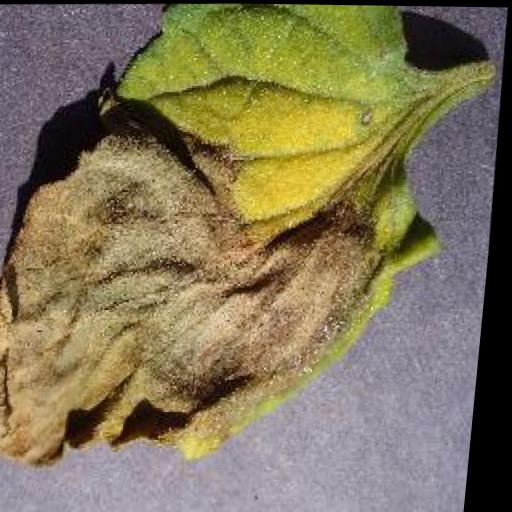Late Blight: (0, 0, 462, 472)
